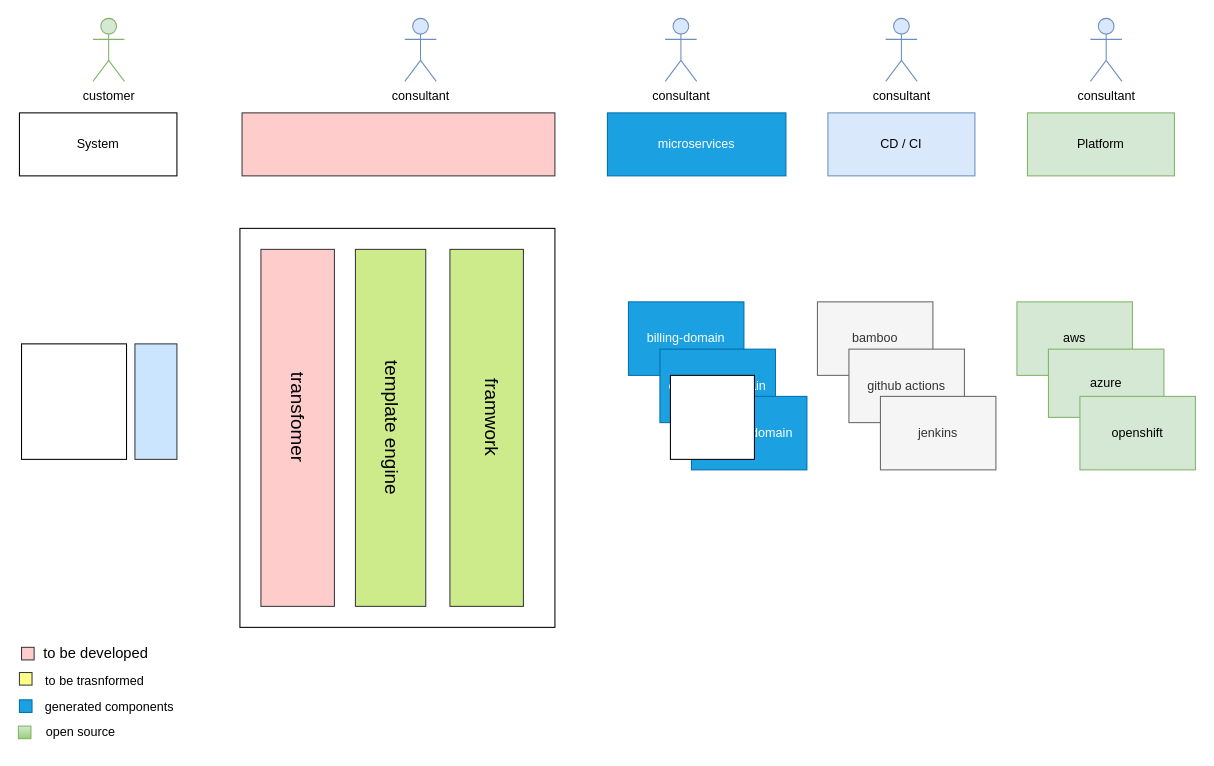
This 1214x766 diagram has some shape labels left out. The shapes that lost their labels are listed below. From the top down, each one's centre as x and y in pixels, then its label:
the point at 398,144: Domain designer UI
the point at 73,401: runtime
the point at 155,401: code base
